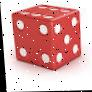cube: (11, 5, 81, 70)
